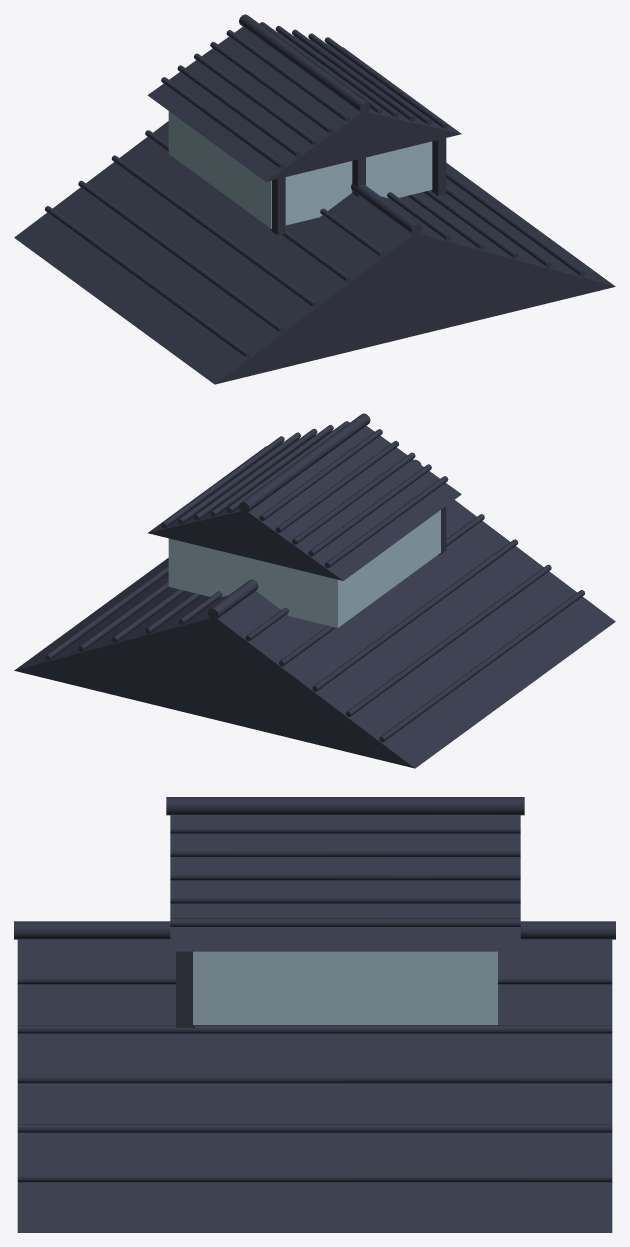
File: roof_traditional_works_1.glb
3 renders of one model, top to bottom at view 1: azimuth 30°, elevation 25°; view 2: azimuth 150°, elevation 25°; view 3: azimuth 270°, elevation 25°, orthographic. The views are drawn at different scales.
Parts seen in each view (by area): view 1: roof_traditional_works_1 steel, roof_traditional_works_1 ink, roof_traditional_works_1 glass; view 2: roof_traditional_works_1 steel, roof_traditional_works_1 ink, roof_traditional_works_1 glass; view 3: roof_traditional_works_1 steel, roof_traditional_works_1 ink, roof_traditional_works_1 glass.
Boxes of the visible parts, x1,y1,x2,y2 form: roof_traditional_works_1 steel: [14, 14, 615, 384]; roof_traditional_works_1 ink: [44, 22, 584, 358]; roof_traditional_works_1 glass: [168, 111, 432, 228]; roof_traditional_works_1 steel: [14, 413, 615, 768]; roof_traditional_works_1 ink: [45, 421, 584, 742]; roof_traditional_works_1 glass: [168, 510, 440, 627]; roof_traditional_works_1 steel: [14, 797, 615, 1232]; roof_traditional_works_1 ink: [17, 825, 612, 1182]; roof_traditional_works_1 glass: [193, 951, 497, 1024].
Size of the model in its own units: 0.9 by 0.4194 by 0.79.
